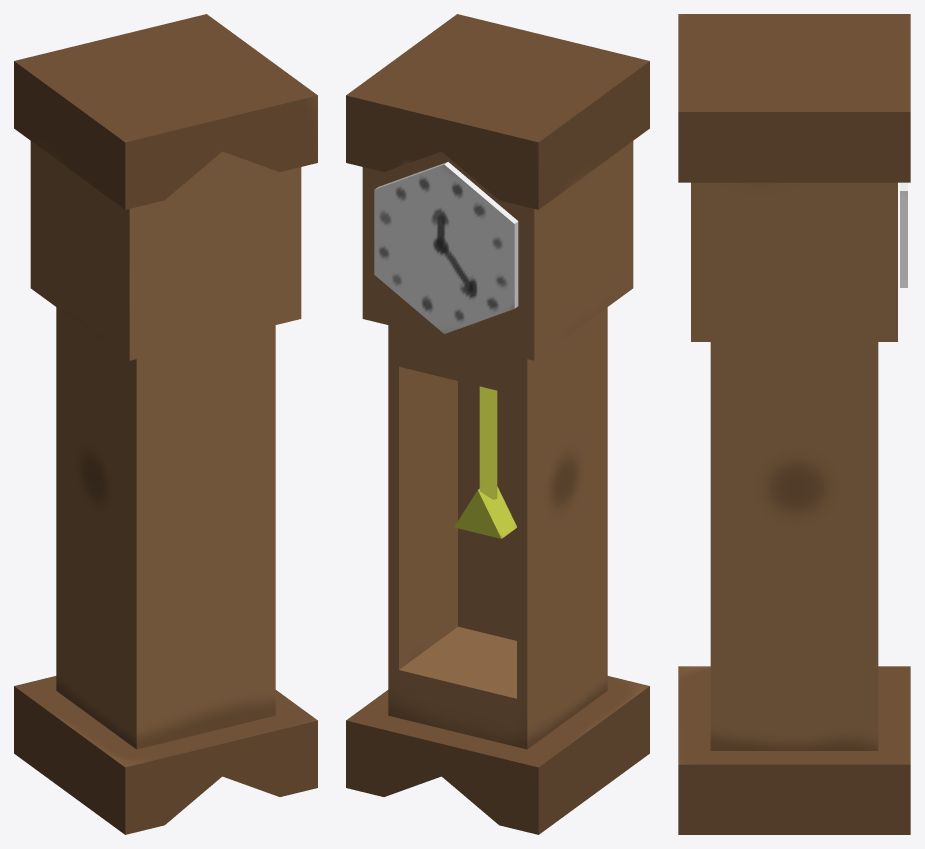
Rendered from Grandfather Clock.fbx.
The picture shows the model from 3 angles, left to right: view 1: azimuth 30°, elevation 25°; view 2: azimuth 150°, elevation 25°; view 3: azimuth 270°, elevation 25°; orthographic projection. The views are drawn at different scales.
Parts seen in each view (by area): view 1: Cube; view 2: Cube; view 3: Cube.
Boxes of the visible parts, <box> form: Cube: <box>14,14,317,834</box>; Cube: <box>346,14,649,834</box>; Cube: <box>678,14,910,834</box>.
Bounding box in the file's own units: 230 × 791 × 230.
